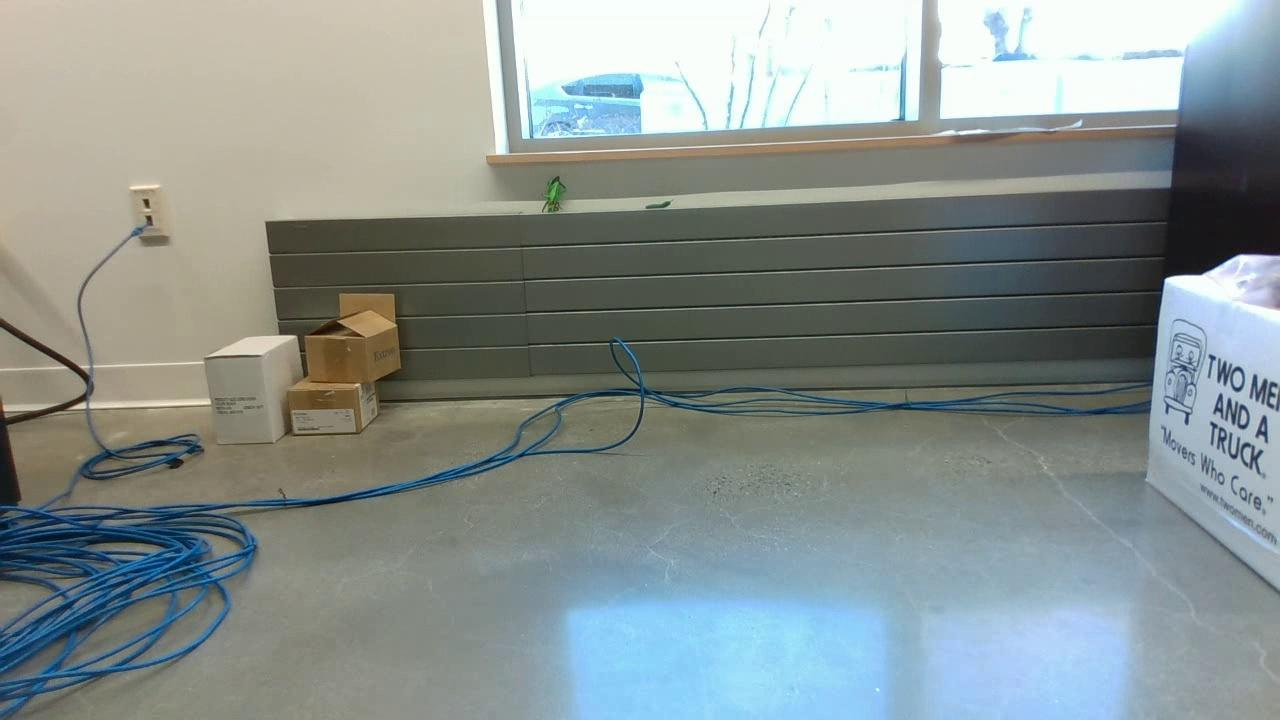grasshopper: (542, 174, 566, 212)
